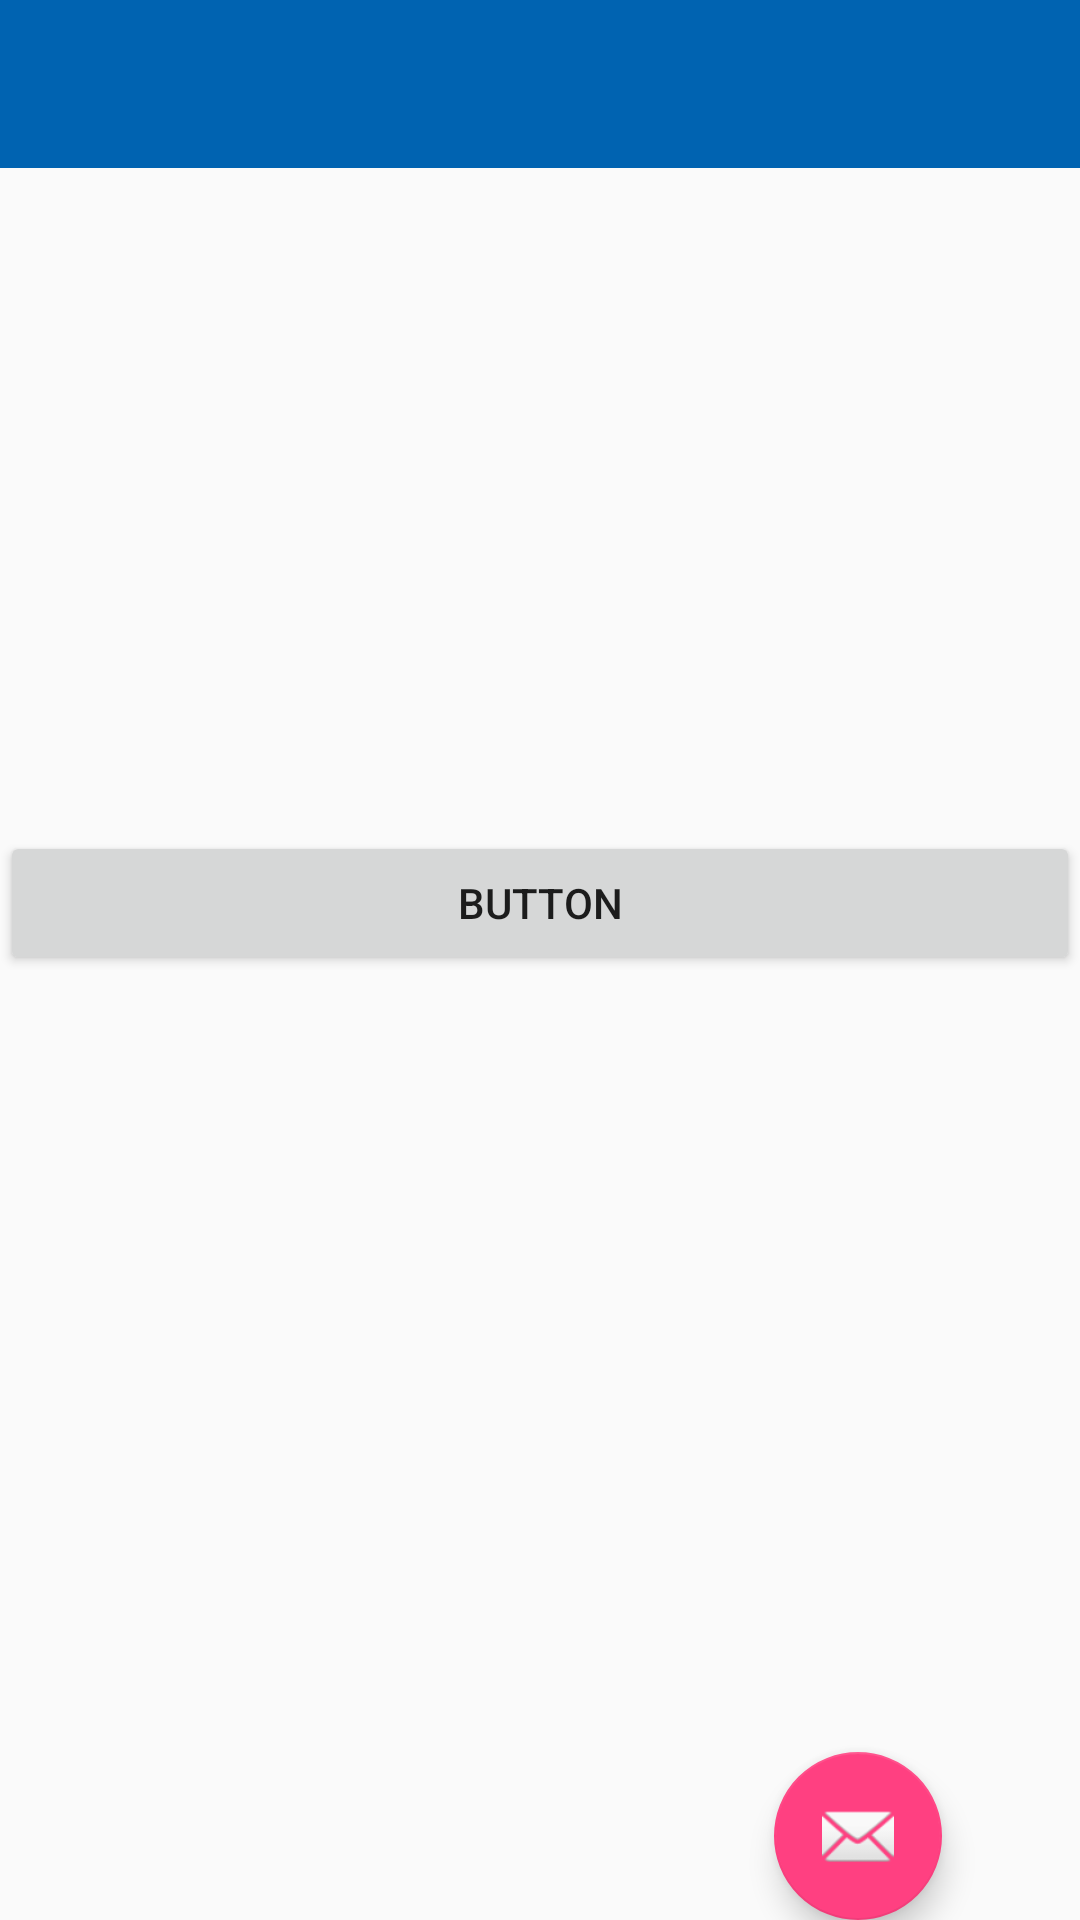

Icon click points for this 1080*1920 phone screenshot, format (x=x, y=y):
email: (x=858, y=1836)
